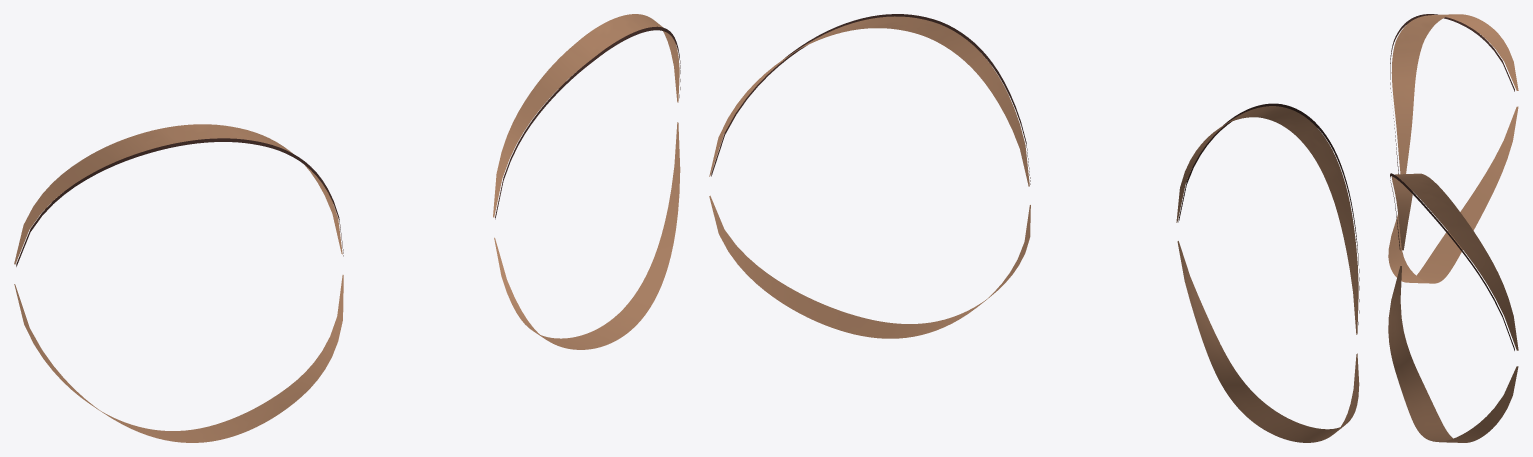
Rendered from hero-eyelids.glb.
3 renders of one model, left to right at view 1: azimuth 30°, elevation 25°; view 2: azimuth 150°, elevation 25°; view 3: azimuth 270°, elevation 25°, orthographic. The views are drawn at different scales.
Parts seen in each view (by area): view 1: Paupieres_Sculptees; view 2: Paupieres_Sculptees; view 3: Paupieres_Sculptees.
Boxes of the visible parts, x1=… form: Paupieres_Sculptees: x1=14, y1=14, x2=680, y2=442; Paupieres_Sculptees: x1=709, y1=14, x2=1359, y2=442; Paupieres_Sculptees: x1=1388, y1=14, x2=1518, y2=442.
Bounding box in the file's own units: 0.3517 × 0.1581 × 0.0746.
